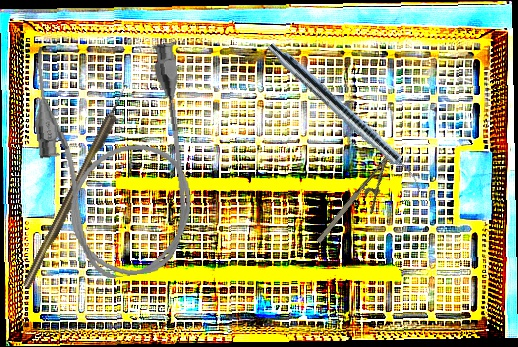Cannula: (24, 28, 205, 286)
Handpiece: (262, 39, 431, 194)
Hook Surgical: (20, 83, 133, 290)
Needle Holder: (313, 150, 411, 257)
